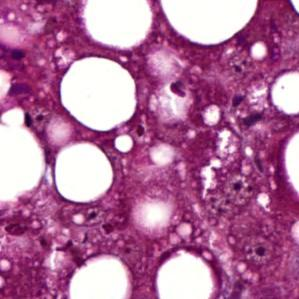steatosis: (57, 53, 141, 131), (50, 141, 119, 204)
